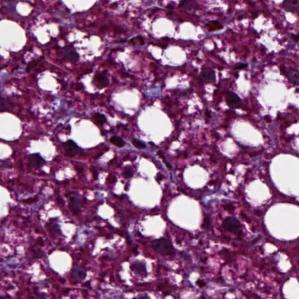steatosis: (166, 194, 205, 233)
